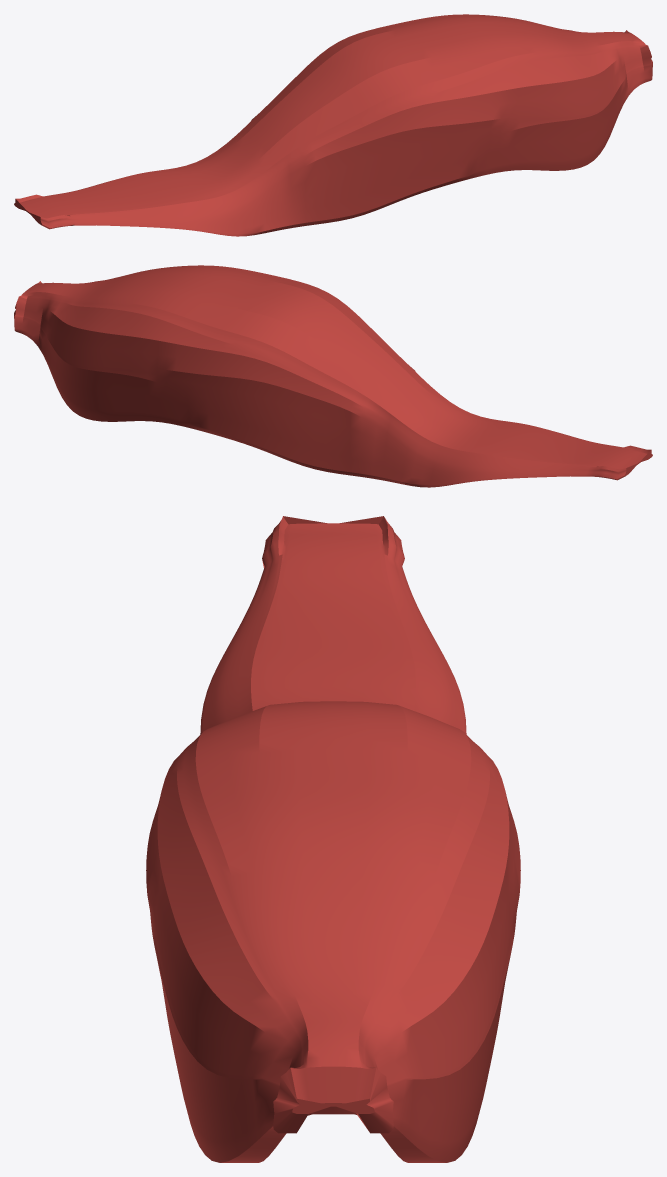
Rendered from adventure_1_lod1.glb.
The picture shows the model from 3 angles, top to bottom: view 1: azimuth 30°, elevation 25°; view 2: azimuth 150°, elevation 25°; view 3: azimuth 270°, elevation 25°; orthographic projection. The views are drawn at different scales.
Parts seen in each view (by area): view 1: adventure_1_lod1; view 2: adventure_1_lod1; view 3: adventure_1_lod1.
Boxes of the visible parts, x1,y1,x2,y2 form: adventure_1_lod1: [14, 14, 652, 236]; adventure_1_lod1: [14, 265, 652, 487]; adventure_1_lod1: [146, 516, 520, 1162].
Bounding box in the file's own units: 1.7 × 0.3545 × 0.4478.
